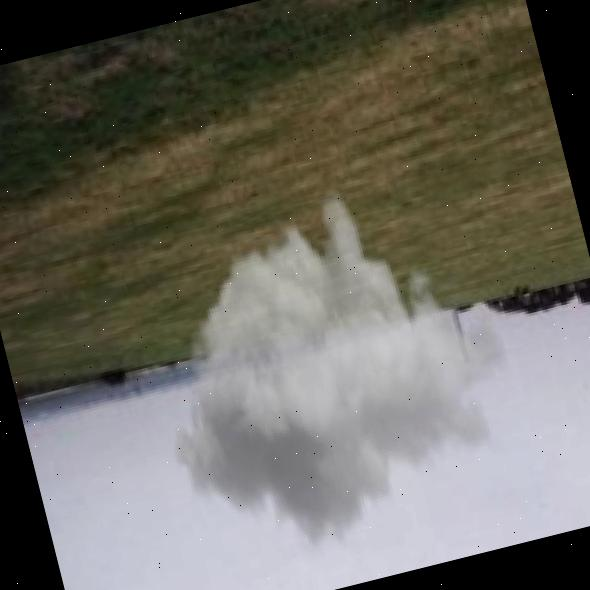smoke: (119, 157, 542, 586)
